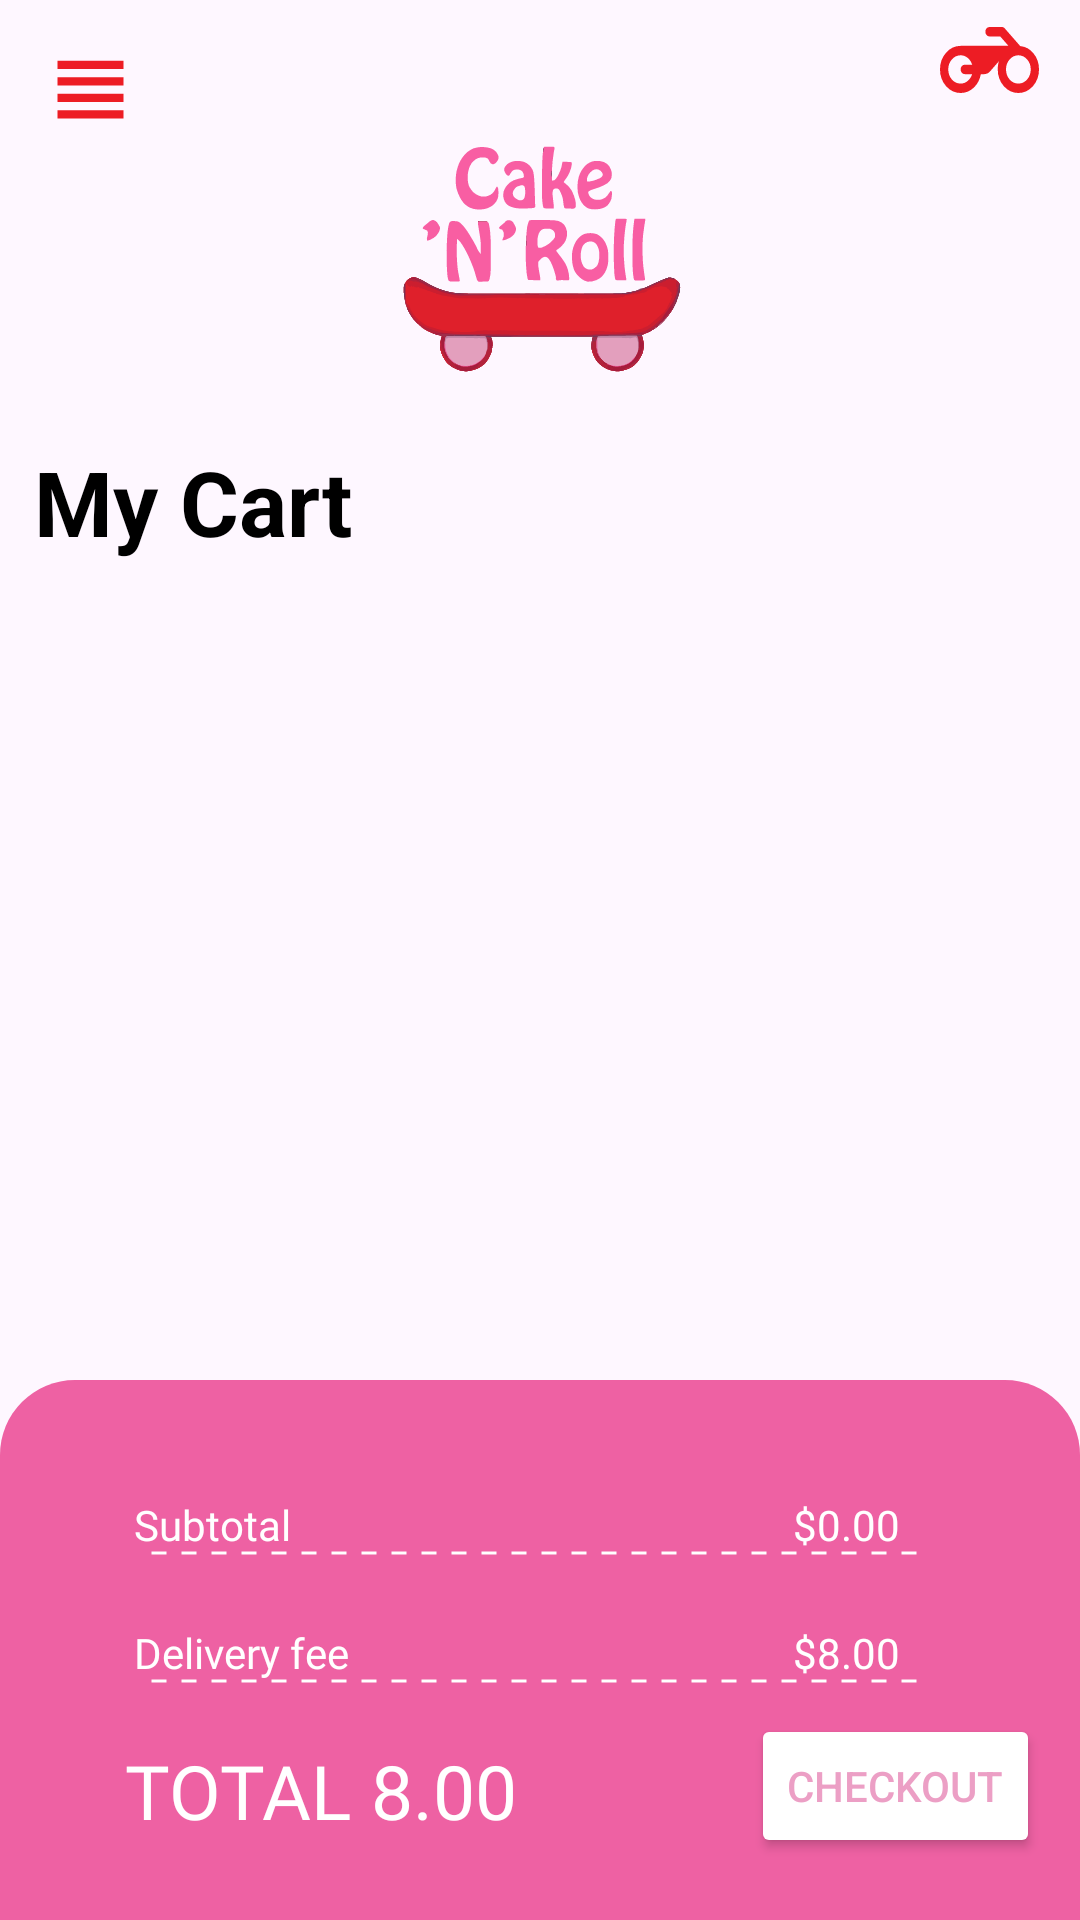

Point at icon controls on the screen. Image size 1080*1920, points as point (x, y).
motorcycle: point (989, 60)
view headline: point (90, 89)
